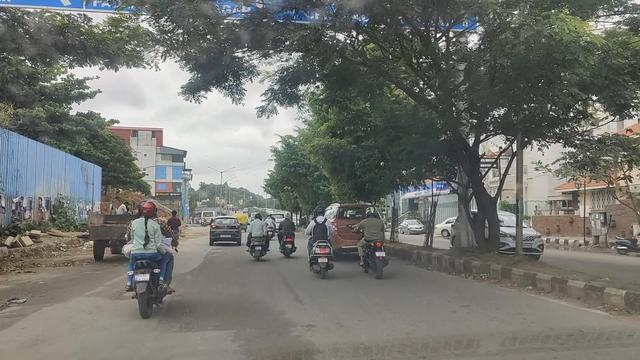LMV: (131, 206, 167, 311), (357, 202, 392, 276), (312, 208, 336, 281), (248, 211, 268, 257), (212, 214, 238, 244), (280, 209, 296, 256)
RoadDamages: (211, 316, 332, 359), (0, 277, 34, 360), (83, 270, 117, 306)
